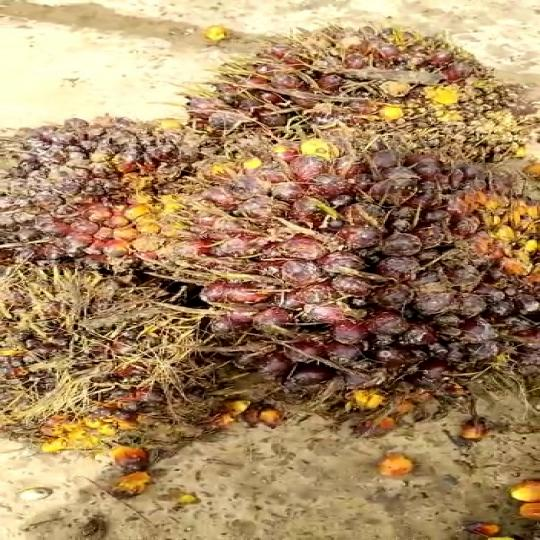kurang masak: (0, 18, 540, 454)
